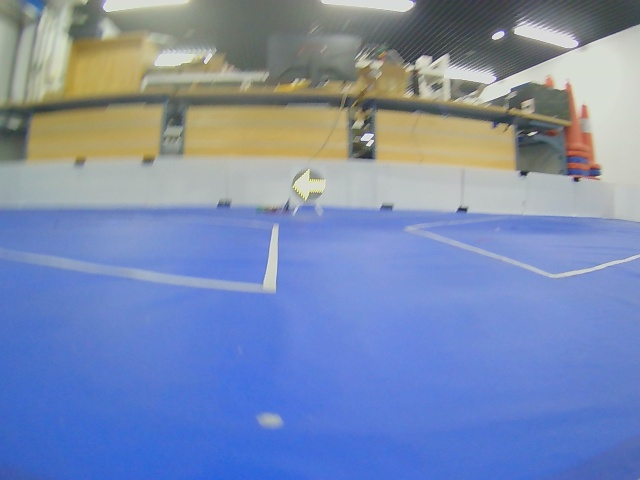left_yellow: (292, 168, 326, 202)
